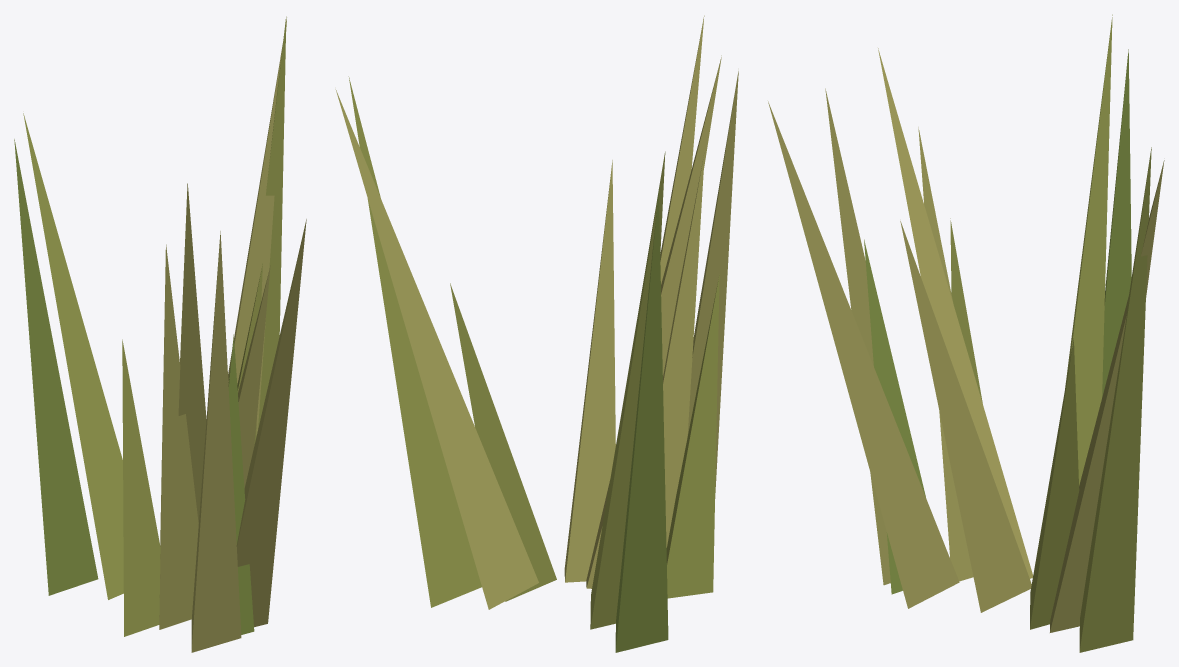
The model's file is Scatter_Beachgrass.fbx.
3 renders of one model, left to right at view 1: azimuth 30°, elevation 25°; view 2: azimuth 150°, elevation 25°; view 3: azimuth 270°, elevation 25°, orthographic. The views are drawn at different scales.
Visible parts, largest first — view 1: Beachgrass; view 2: Beachgrass; view 3: Beachgrass.
Boxes of the visible parts, x1=… form: Beachgrass: x1=14, y1=16, x2=306, y2=652; Beachgrass: x1=335, y1=15, x2=738, y2=652; Beachgrass: x1=768, y1=14, x2=1164, y2=652.
Bounding box in the file's own units: 2.62 × 4.29 × 2.88.
